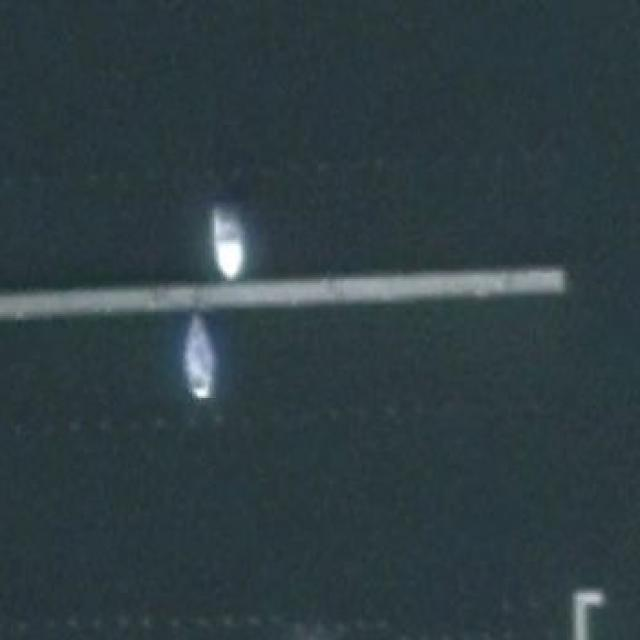ship: (210, 191, 252, 283), (181, 312, 219, 406)
